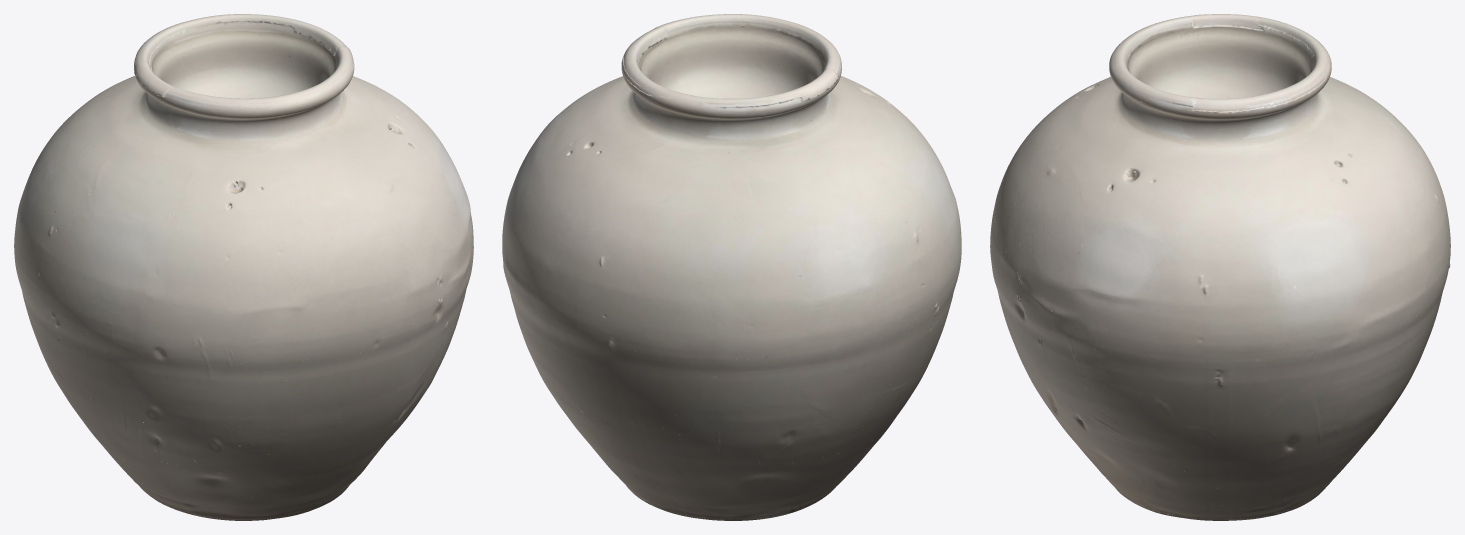
Rendered from tang-white-vase.glb.
3 renders of one model, left to right at view 1: azimuth 30°, elevation 25°; view 2: azimuth 150°, elevation 25°; view 3: azimuth 270°, elevation 25°, orthographic.
Visible parts, largest first — view 1: tripo_node_9e6166ee-809d-44f4-b31c-2f6fbcdc06c7; view 2: tripo_node_9e6166ee-809d-44f4-b31c-2f6fbcdc06c7; view 3: tripo_node_9e6166ee-809d-44f4-b31c-2f6fbcdc06c7.
Boxes of the visible parts, bbox=[...] form: tripo_node_9e6166ee-809d-44f4-b31c-2f6fbcdc06c7: bbox=[14, 14, 473, 520]; tripo_node_9e6166ee-809d-44f4-b31c-2f6fbcdc06c7: bbox=[502, 14, 961, 520]; tripo_node_9e6166ee-809d-44f4-b31c-2f6fbcdc06c7: bbox=[990, 14, 1450, 520].
Size of the model in its own units: 0.9696 by 0.9797 by 0.9678.
Materials: 1 (1 with a texture image).
